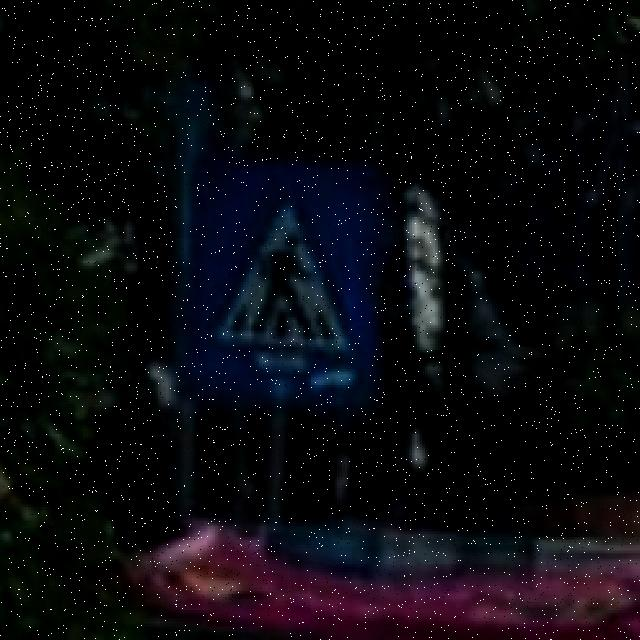Przejscie dla pieszych: (192, 163, 371, 410)
